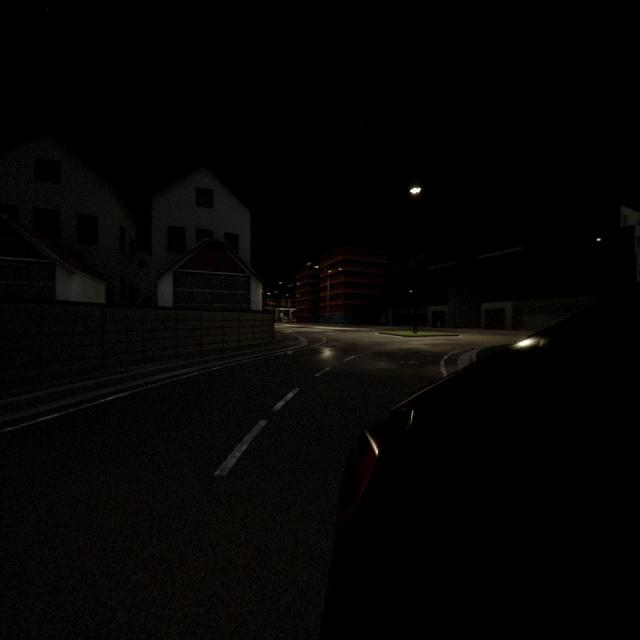Vehicle: (334, 298, 639, 637), (284, 319, 296, 324)
